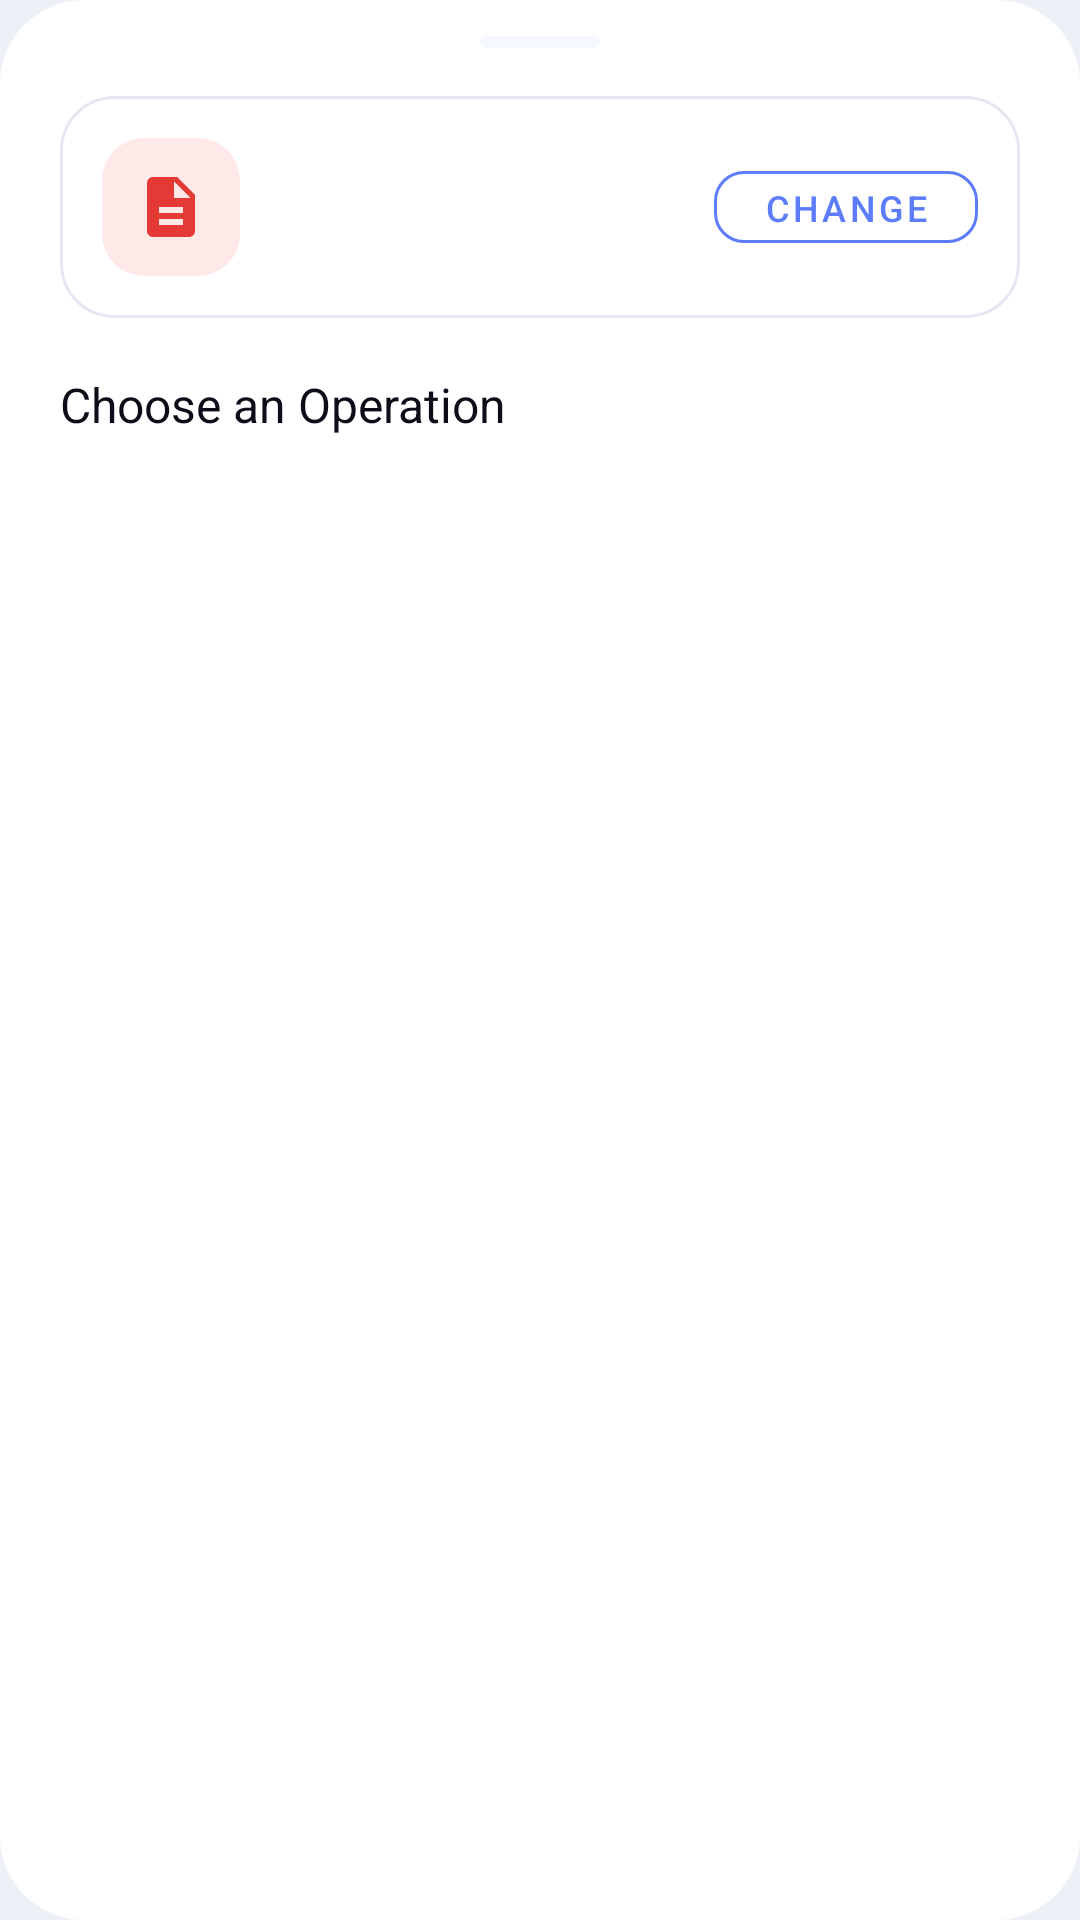

Icons on this 1080x1920 Android screen, each with its box as bbox=(x1, y1, x2, y2):
file: bbox=(147, 177, 195, 237)
